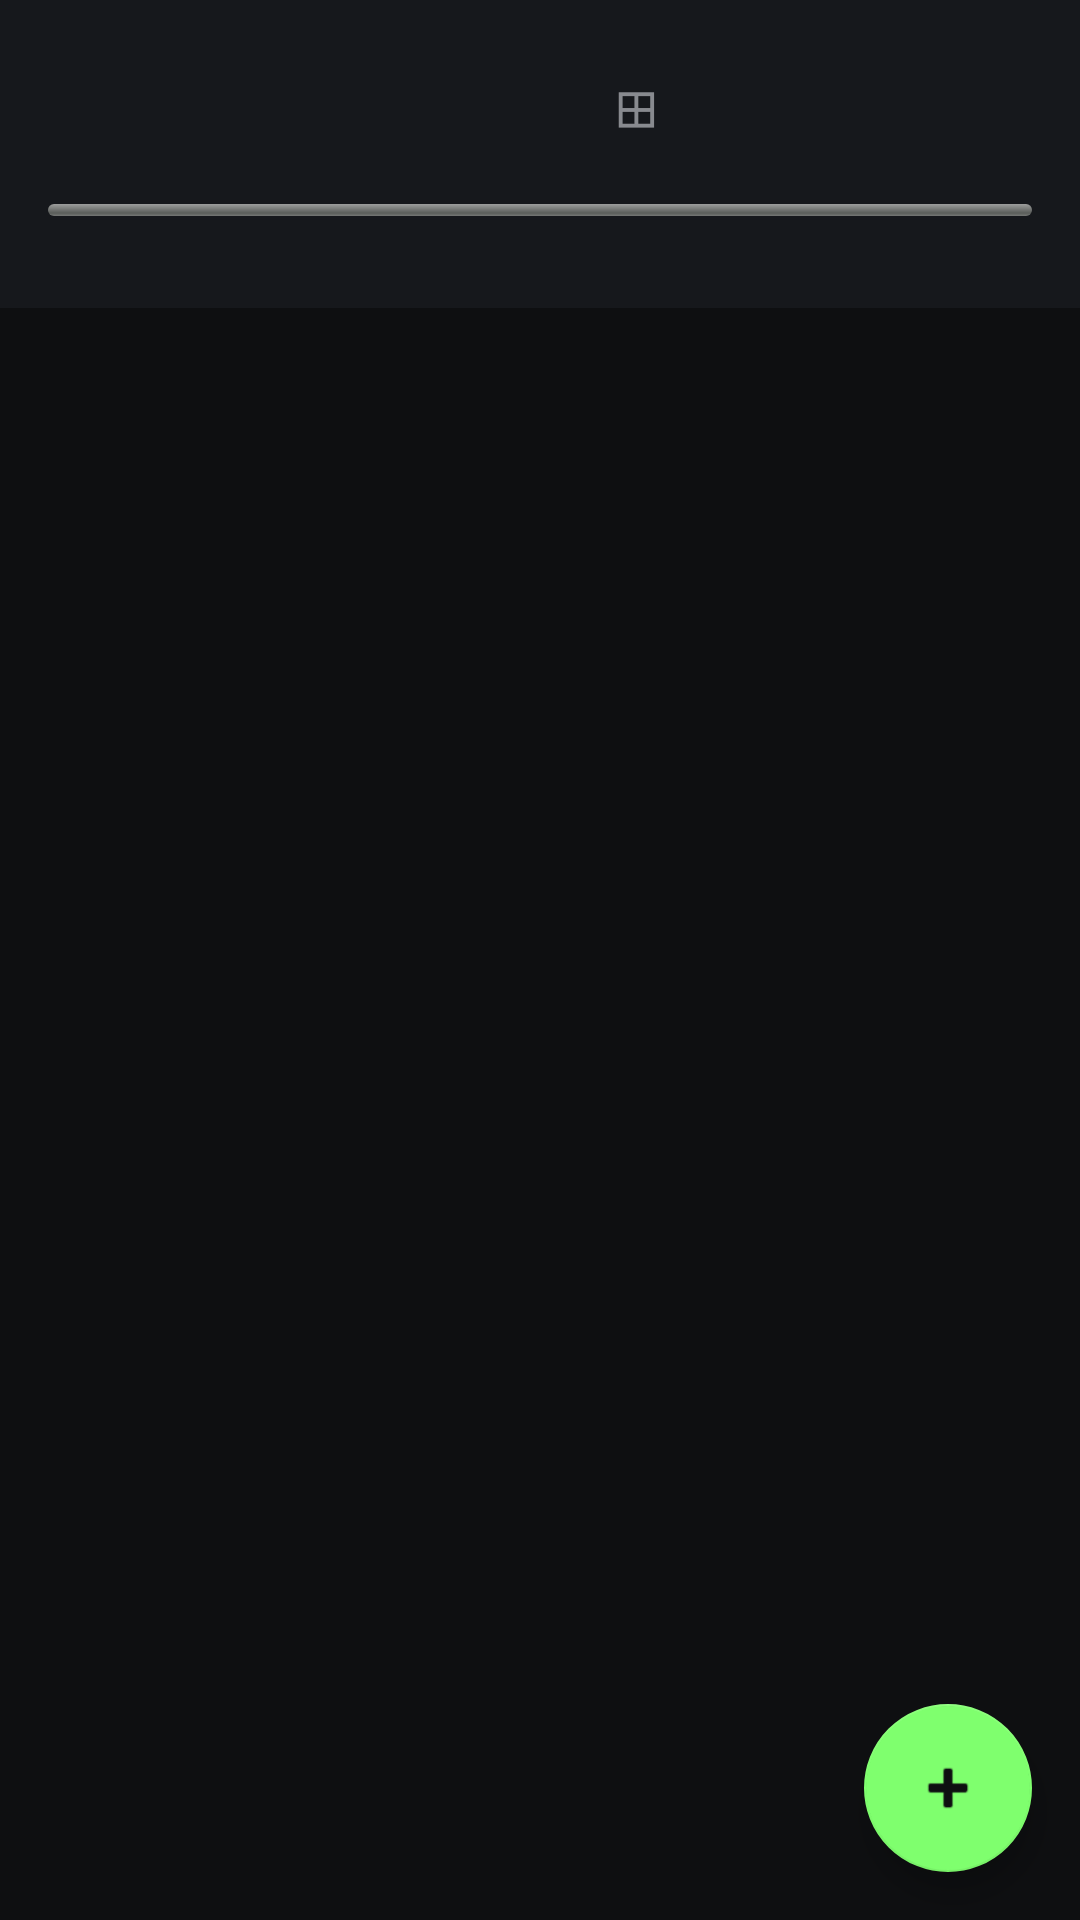

Where to tap for icons on this 1080x1920 app screen, as (x,y):
Add step: (948,1788)
